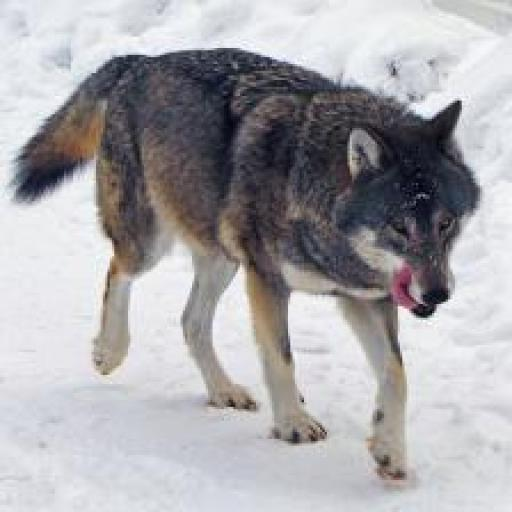wolf: (20, 39, 502, 502)
